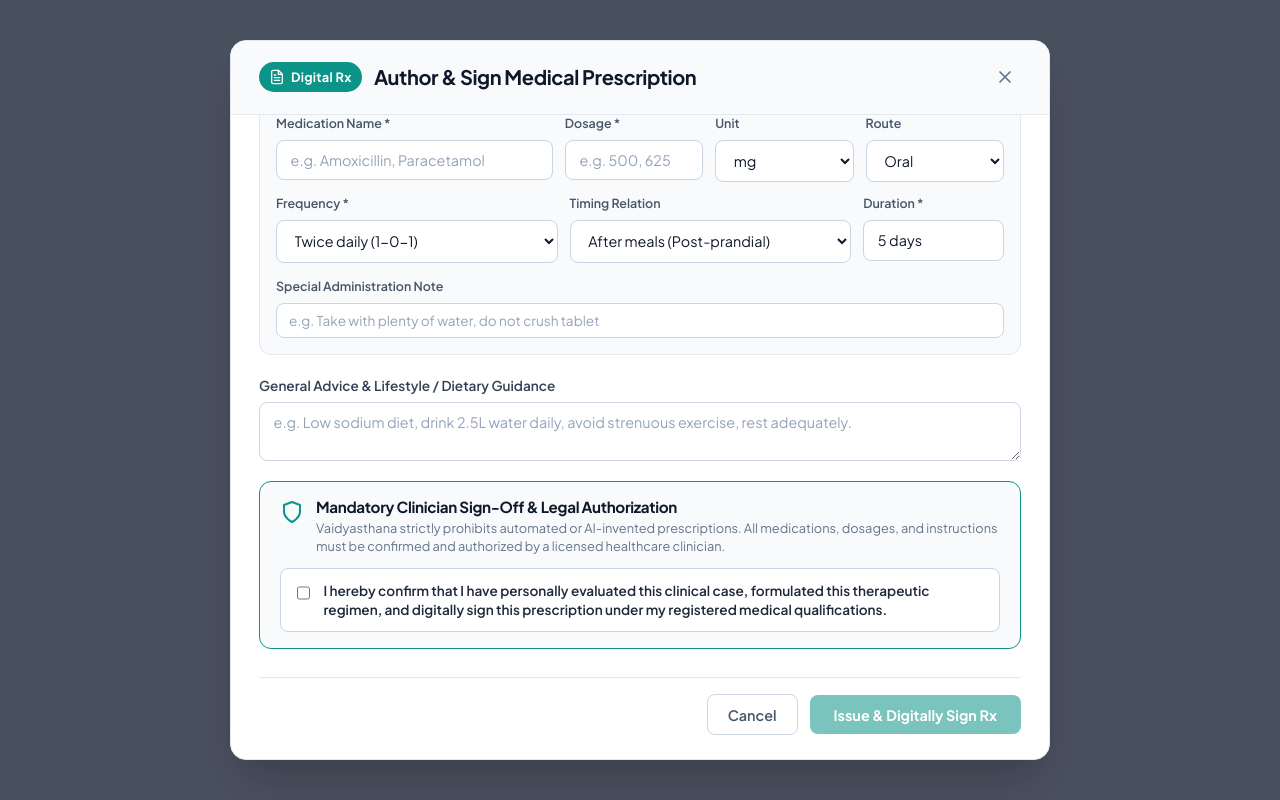
DoctorPrescriptionModal Component › submit button is disabled unless clinician sign-off checkbox is checked
(page scrolled)
expect the button "Issue & Digitally Sign Rx" is disabled: met, box [810,695,1021,734]
Click the checkbox at (304, 592), box [297,584,310,602]
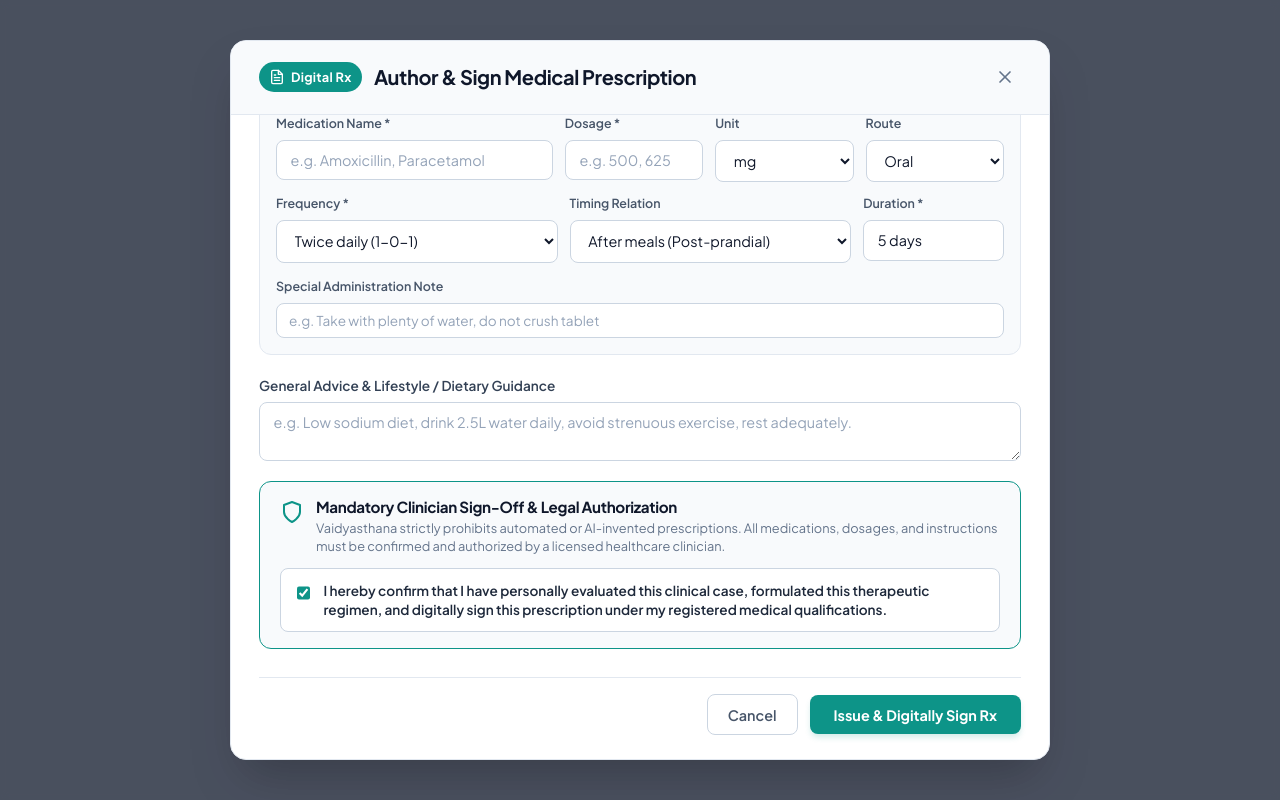
expect the button "Issue & Digitally Sign Rx" is enabled: met, box [810,695,1021,734]
